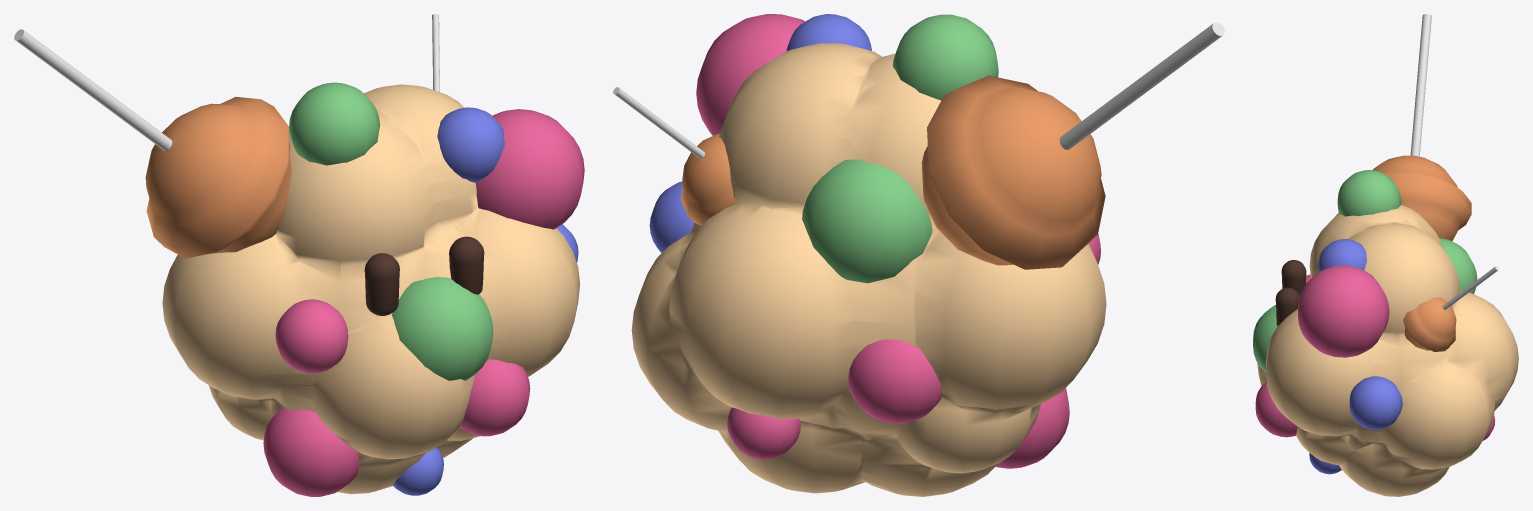
Rendered from Ferrous Sulfate.fbx.
3 views of the same model, side by side, from view 1: azimuth 30°, elevation 25°; view 2: azimuth 150°, elevation 25°; view 3: azimuth 270°, elevation 25° (orthographic). The views are drawn at different scales.
Parts seen in each view (by area): view 1: Sphere.012, Cylinder.002, Sphere.015, Sphere.024, Sphere.021, Sphere.025, Sphere.016, Sphere.017, Sphere.007, Sphere.022, Sphere.023, Sphere.005; view 2: Sphere.012, Cylinder.002, Sphere.026, Sphere.025, Sphere.018, Sphere.015, Cylinder.003, Sphere.020, Sphere.021, Sphere.007, Sphere.006; view 3: Sphere.012, Sphere.015, Cylinder.002, Cylinder.003, Sphere.025, Sphere.006, Sphere.017, Sphere.007, Sphere.026, Sphere.024, Sphere.022, Sphere.023 (+1 smaller).
Part boxes in pixels (x1,y1,x2,y2): Sphere.012: (162, 84, 579, 494); Cylinder.002: (14, 29, 291, 258); Sphere.015: (475, 109, 584, 229); Sphere.024: (391, 277, 493, 380); Sphere.021: (263, 408, 359, 496); Sphere.025: (289, 82, 379, 165); Sphere.016: (275, 299, 348, 373); Sphere.017: (460, 359, 530, 436); Sphere.007: (437, 107, 504, 182); Sphere.022: (364, 253, 399, 315); Sphere.023: (449, 236, 484, 294); Sphere.005: (393, 448, 443, 495); Sphere.012: (631, 43, 1106, 496); Cylinder.002: (921, 22, 1224, 269); Sphere.026: (802, 159, 932, 283); Sphere.025: (893, 14, 998, 100); Sphere.018: (848, 339, 942, 423); Sphere.015: (696, 14, 804, 135); Cylinder.003: (613, 87, 738, 225); Sphere.020: (727, 407, 800, 459); Sphere.021: (995, 388, 1069, 468); Sphere.007: (786, 14, 871, 51); Sphere.006: (649, 181, 694, 252); Sphere.012: (1257, 205, 1518, 496); Sphere.015: (1298, 265, 1389, 357); Cylinder.002: (1372, 14, 1471, 240); Cylinder.003: (1403, 266, 1498, 351); Sphere.025: (1337, 170, 1401, 216); Sphere.006: (1349, 376, 1402, 429); Sphere.017: (1255, 382, 1297, 437); Sphere.007: (1318, 239, 1366, 271); Sphere.026: (1439, 238, 1477, 293); Sphere.024: (1253, 305, 1277, 372); Sphere.022: (1281, 260, 1306, 295); Sphere.023: (1275, 287, 1299, 326).
Size of the model in its own units: 326 by 298 by 204.
